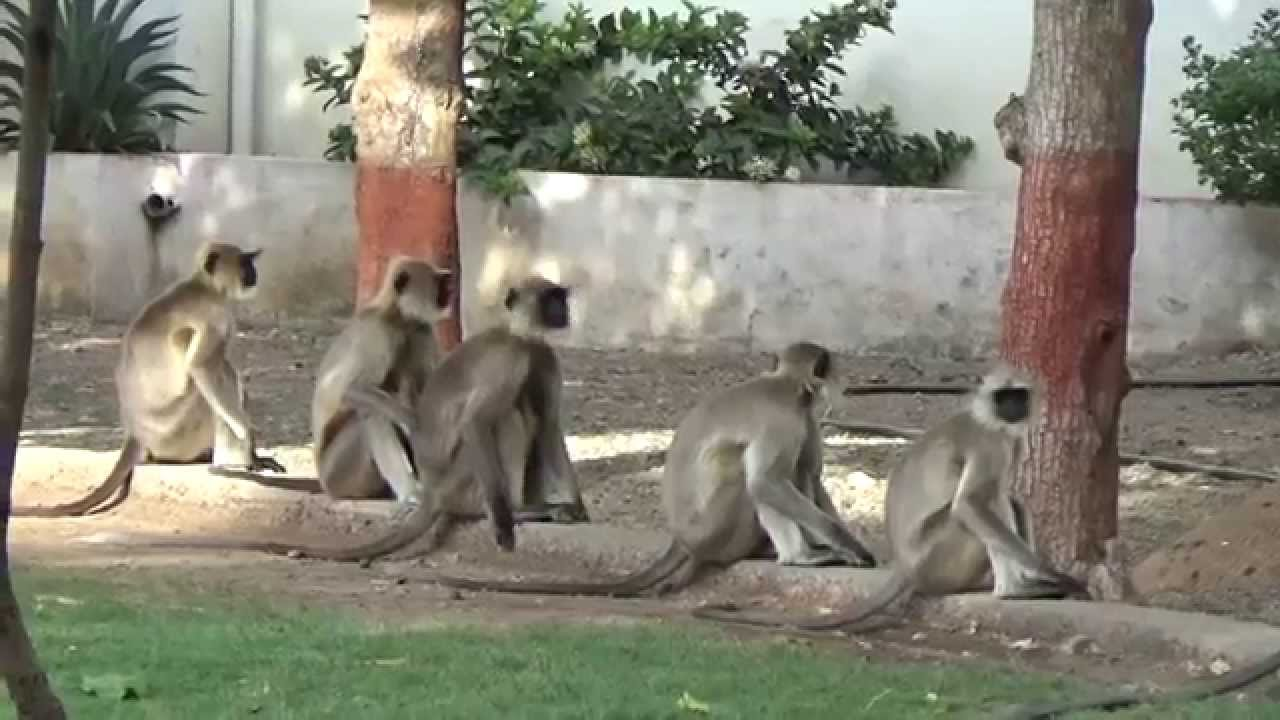monkey: (624, 313, 871, 602), (856, 355, 1091, 648), (73, 223, 284, 518), (411, 247, 595, 562), (304, 237, 461, 531)
